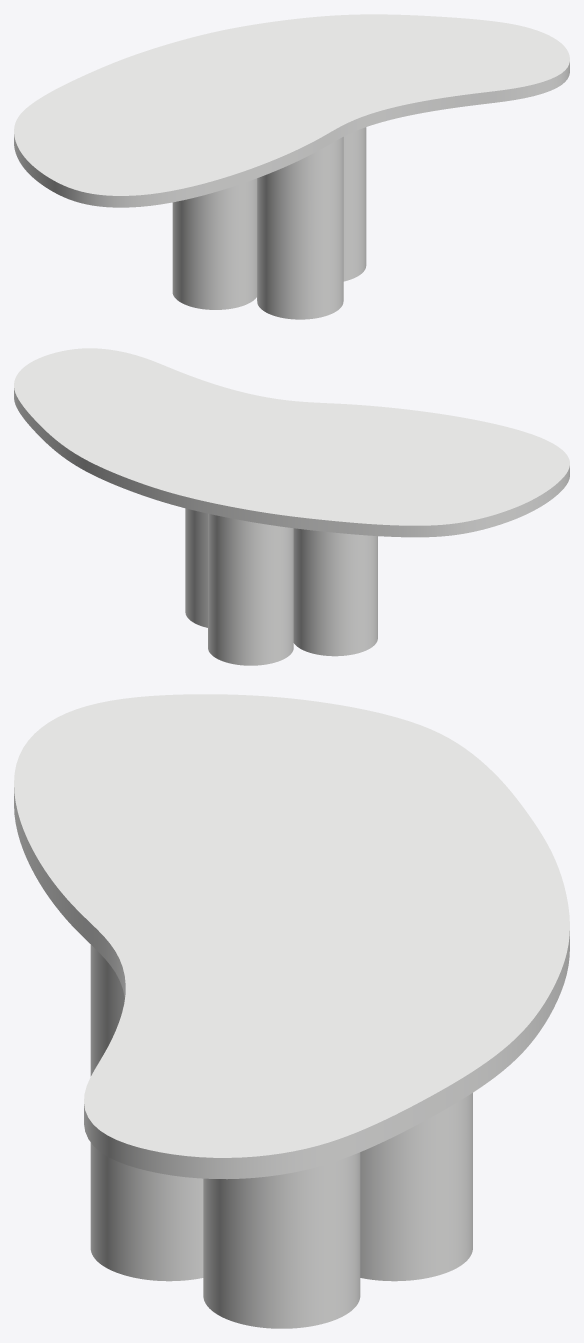
File: purewhite_leaf1_standard_secondtable.glb
3 renders of one model, top to bottom at view 1: azimuth 30°, elevation 25°; view 2: azimuth 150°, elevation 25°; view 3: azimuth 270°, elevation 25°, orthographic. The views are drawn at different scales.
Visible parts, largest first — view 1: standard_leaf1, secondtable; view 2: standard_leaf1, secondtable; view 3: standard_leaf1, secondtable.
Part boxes in pixels (bbox=[...]): standard_leaf1: bbox=[14, 14, 569, 207]; secondtable: bbox=[172, 127, 366, 319]; standard_leaf1: bbox=[14, 348, 569, 537]; secondtable: bbox=[185, 508, 377, 665]; standard_leaf1: bbox=[14, 694, 569, 1179]; secondtable: bbox=[90, 944, 472, 1328].
Bounding box in the file's own units: 7.5 × 2.51 × 3.8.
1 material, 1 textured.
